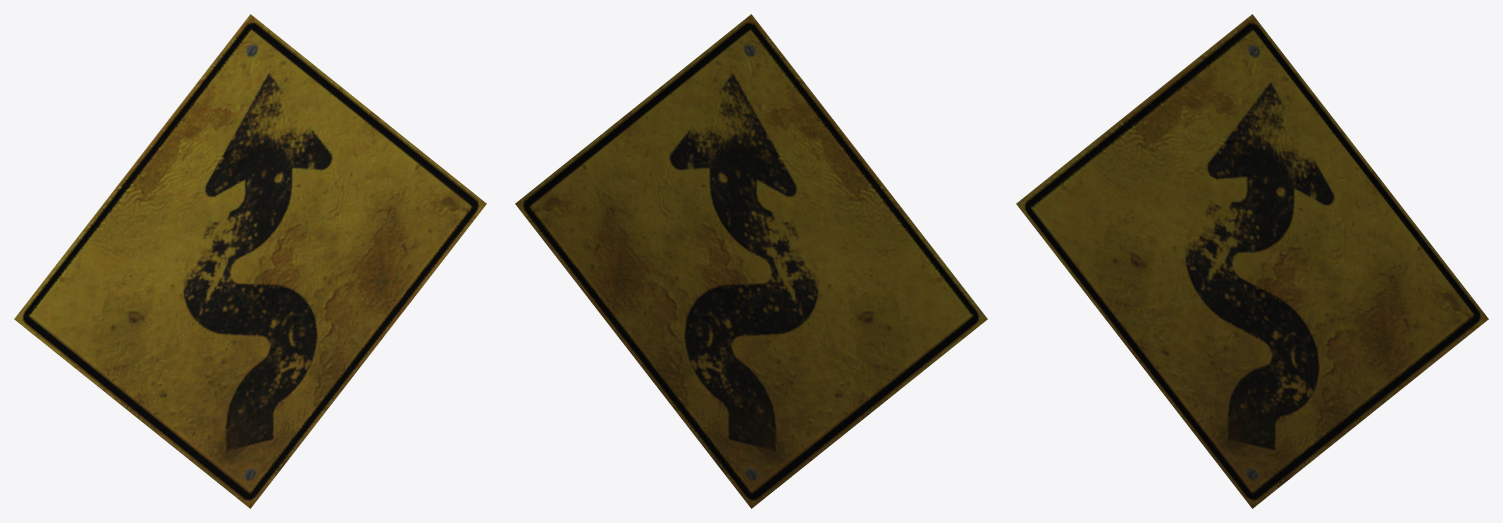
Rendered from object_100_lev2.glb.
3 views of the same model, side by side, from view 1: azimuth 30°, elevation 25°; view 2: azimuth 150°, elevation 25°; view 3: azimuth 330°, elevation 25° (orthographic).
Parts seen in each view (by area): view 1: object_100_lev2; view 2: object_100_lev2; view 3: object_100_lev2.
Boxes of the visible parts, left/top/right/bottom form: object_100_lev2: left=14, top=14, right=486, bottom=508; object_100_lev2: left=515, top=14, right=987, bottom=508; object_100_lev2: left=1016, top=14, right=1488, bottom=508.
Bounding box in the file's own units: 0.9144 × 0.9144 × 0.
1 material, 1 textured.
